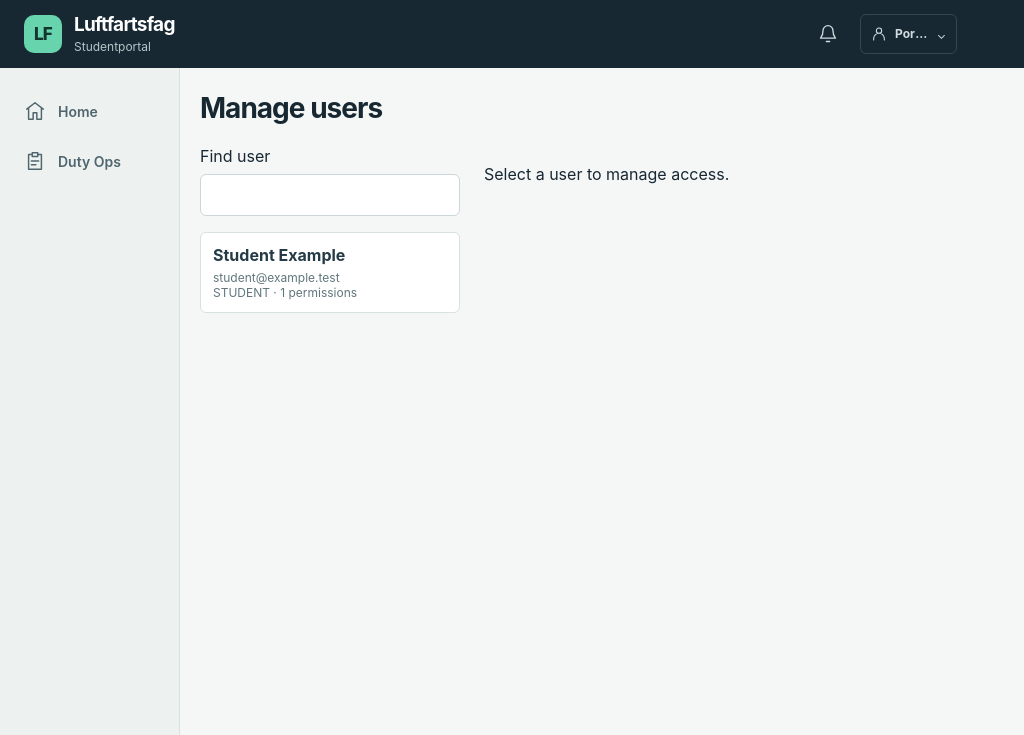
Scenario: admin access editor › disables privileged controls for manage_users alone
Click the button that starts with "Student Example" at (330, 272), box 200,232 -> 460,313
(page scrolled)
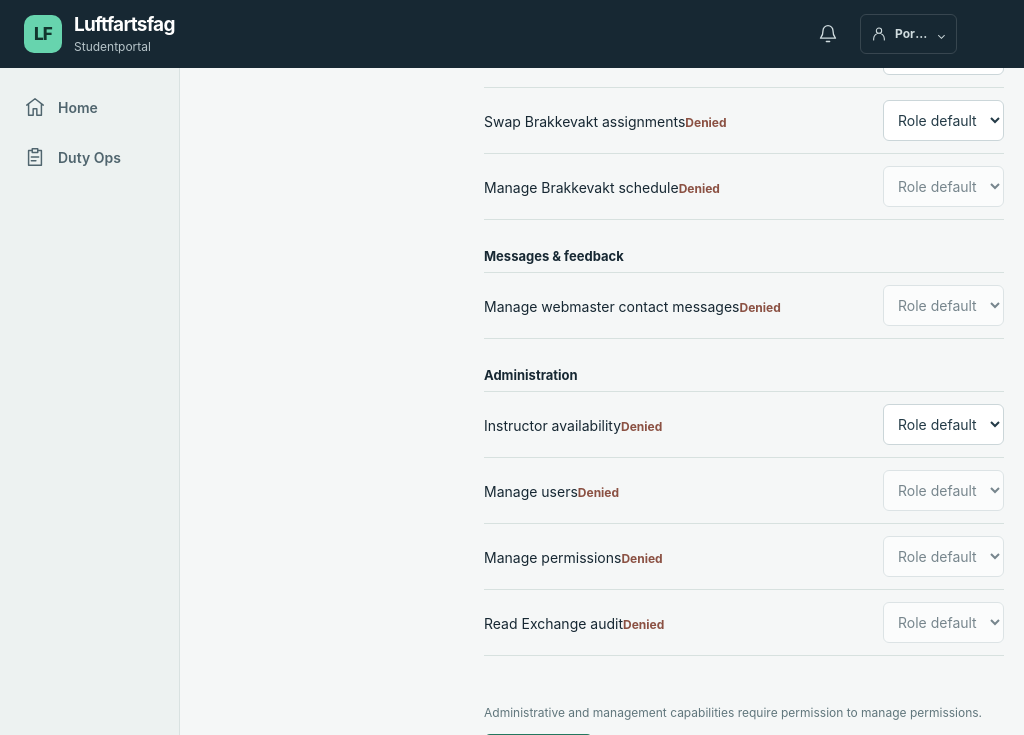
Now the dropdown labelled "Instructor availability" is enabled, box 883,404 -> 1004,445
